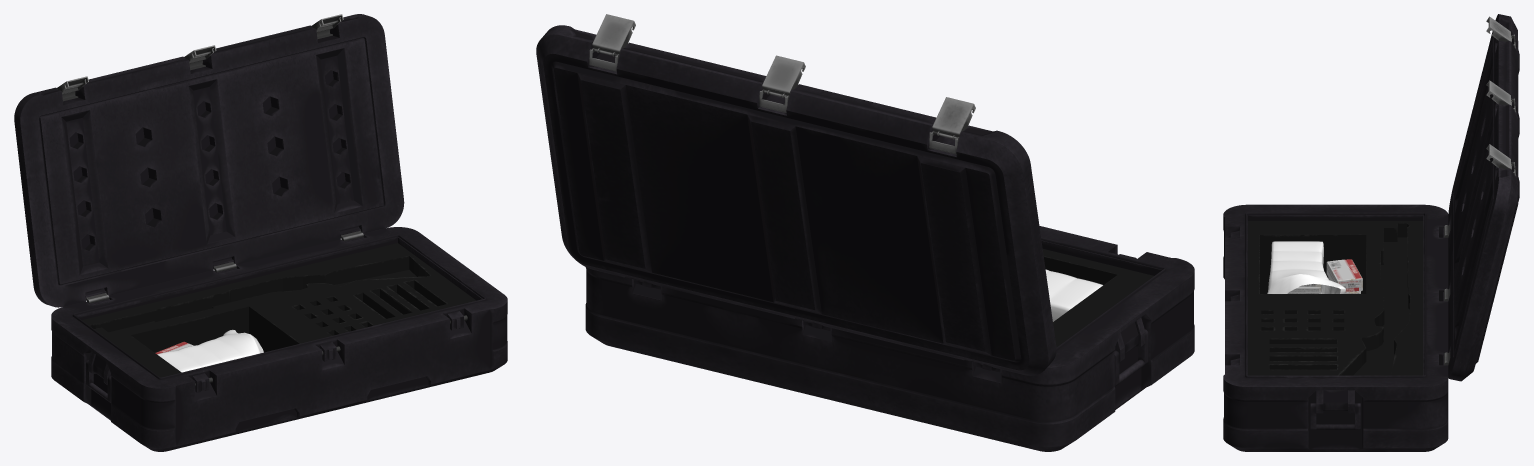
The model's file is GunCase.fbx.
3 views of the same model, side by side, from view 1: azimuth 30°, elevation 25°; view 2: azimuth 150°, elevation 25°; view 3: azimuth 270°, elevation 25° (orthographic). The views are drawn at different scales.
Parts seen in each view (by area): view 1: GunCase_Lid, GunCase_Base, GunCase_Insert, Ammo_Wrapping; view 2: GunCase_Lid, GunCase_Base, GunCase_Insert, Ammo_Wrapping; view 3: GunCase_Base, GunCase_Insert, GunCase_Lid, Ammo_Wrapping, Ammo_Boxes.
Part boxes in pixels (x1,y1,x2,y2): GunCase_Lid: [14, 14, 404, 307]; GunCase_Base: [51, 227, 507, 451]; GunCase_Insert: [82, 243, 475, 377]; Ammo_Wrapping: [157, 329, 263, 372]; GunCase_Lid: [536, 14, 1056, 375]; GunCase_Base: [585, 226, 1194, 451]; GunCase_Insert: [1042, 249, 1153, 347]; Ammo_Wrapping: [1045, 269, 1102, 321]; GunCase_Base: [1223, 204, 1450, 451]; GunCase_Insert: [1248, 221, 1423, 375]; GunCase_Lid: [1448, 14, 1519, 381]; Ammo_Wrapping: [1267, 241, 1345, 293]; Ammo_Boxes: [1287, 259, 1362, 293].
Size of the model in its own units: 1.17 by 0.8373 by 0.8026.
